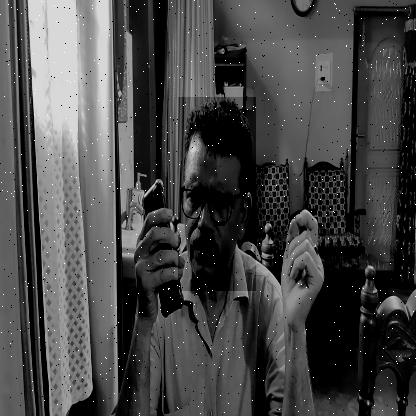Distracted: (178, 97, 256, 291)
